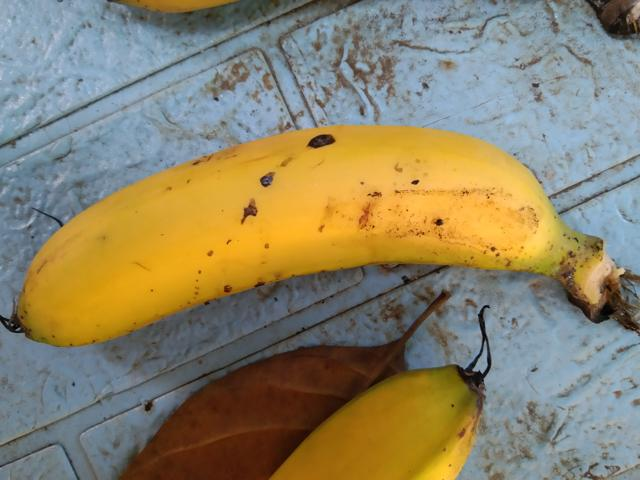ripe: (11, 111, 597, 354)
